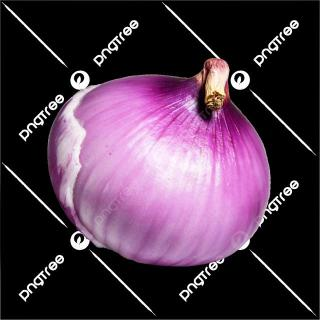Bawang Merah: (45, 56, 273, 270)
